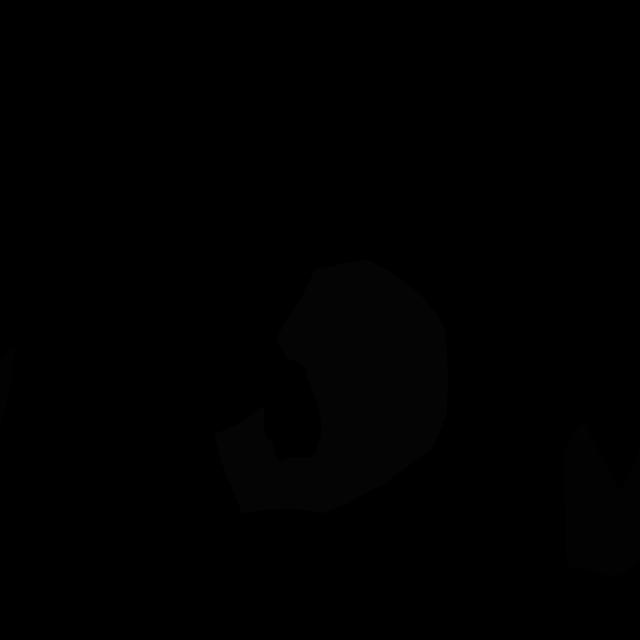cardboard: (564, 422, 640, 576), (0, 345, 16, 425)
soft_plastic: (214, 259, 448, 513)
